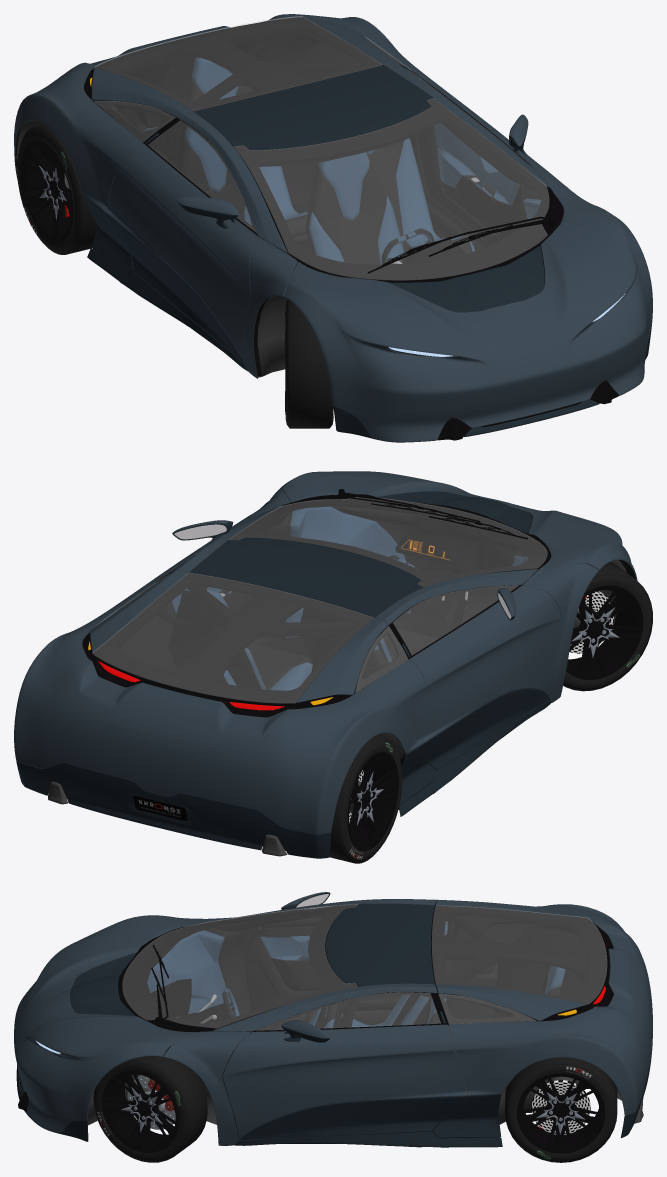
The model's file is car-macro-study.glb.
The picture shows the model from 3 angles, top to bottom: view 1: azimuth 30°, elevation 25°; view 2: azimuth 150°, elevation 25°; view 3: azimuth 270°, elevation 25°; orthographic projection. The views are drawn at different scales.
Parts seen in each view (by area): view 1: BodyHood, BodyWindshield, BodyRearwindow, BodyDoorRColor1, BodyRearPanelsColor1, BodyRoofPanel, BodyWindshieldGasket, InteriorSeatsColor1, InteriorSeatsColor2, BodyPillars, InteriorPillar, InteriorRearHatch (+21 smaller); view 2: BodyRearPanelsColor1, BodyRearwindow, BodyWindshield, BodyDoorRColor1, BodyPanelsColor2, BodyRoofPanel, BodyHood, InteriorRearHatch, BodyPillars, InteriorPillar, BodyWindshieldGasket, InteriorDashMid (+22 smaller); view 3: BodyRearPanelsColor1, BodyWindshield, BodyDoorLColor1, BodyHood, BodyRearwindow, BodyRoofPanel, BodyPillars, BodyWindshieldGasket, BodyDoorLColor2, BodyPanelsColor2, Part 84, InteriorRearHatch (+25 smaller).
Part boxes in pixels (x1,y1,x2,y2): BodyHood: (283, 198, 652, 442); BodyWindshield: (234, 98, 549, 280); BodyRearwindow: (95, 16, 382, 110); BodyDoorRColor1: (104, 143, 257, 362); BodyRearPanelsColor1: (14, 14, 428, 210); BodyRoofPanel: (193, 65, 432, 150); BodyWindshieldGasket: (234, 99, 563, 282); InteriorSeatsColor1: (185, 57, 475, 264); InteriorSeatsColor2: (180, 78, 472, 264); BodyPillars: (176, 61, 598, 378); InteriorPillar: (158, 37, 434, 168); InteriorRearHatch: (93, 17, 383, 117); BodyRearPanelsColor1: (14, 569, 425, 834); BodyRearwindow: (92, 573, 373, 703); BodyWindshield: (229, 497, 547, 587); BodyDoorRColor1: (409, 585, 562, 742); BodyPanelsColor2: (16, 700, 550, 858); BodyRoofPanel: (189, 537, 422, 617); BodyHood: (279, 471, 637, 580); InteriorRearHatch: (93, 573, 386, 707); BodyPillars: (175, 489, 599, 702); InteriorPillar: (174, 574, 417, 682); BodyWindshieldGasket: (230, 497, 550, 587); InteriorDashMid: (331, 503, 528, 622); BodyRearPanelsColor1: (436, 899, 652, 1115); BodyWindshield: (122, 904, 357, 1028); BodyDoorLColor1: (222, 1024, 467, 1139); BodyHood: (14, 915, 196, 1133); BodyRearwindow: (432, 905, 606, 1003); BodyRoofPanel: (326, 903, 434, 986); BodyPillars: (163, 899, 437, 1145); BodyWindshieldGasket: (118, 905, 357, 1032); BodyDoorLColor2: (240, 1096, 467, 1140); BodyPanelsColor2: (16, 1050, 652, 1147); Part 84: (93, 1054, 207, 1162); InteriorRearHatch: (431, 905, 606, 1020).
Bounding box in the file's own units: 1.75 × 0.791 × 3.
Materials: 26 (6 with a texture image).
